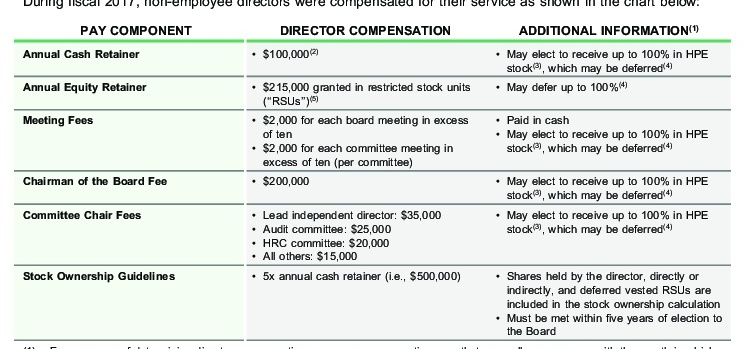table: (0, 0, 748, 349)
